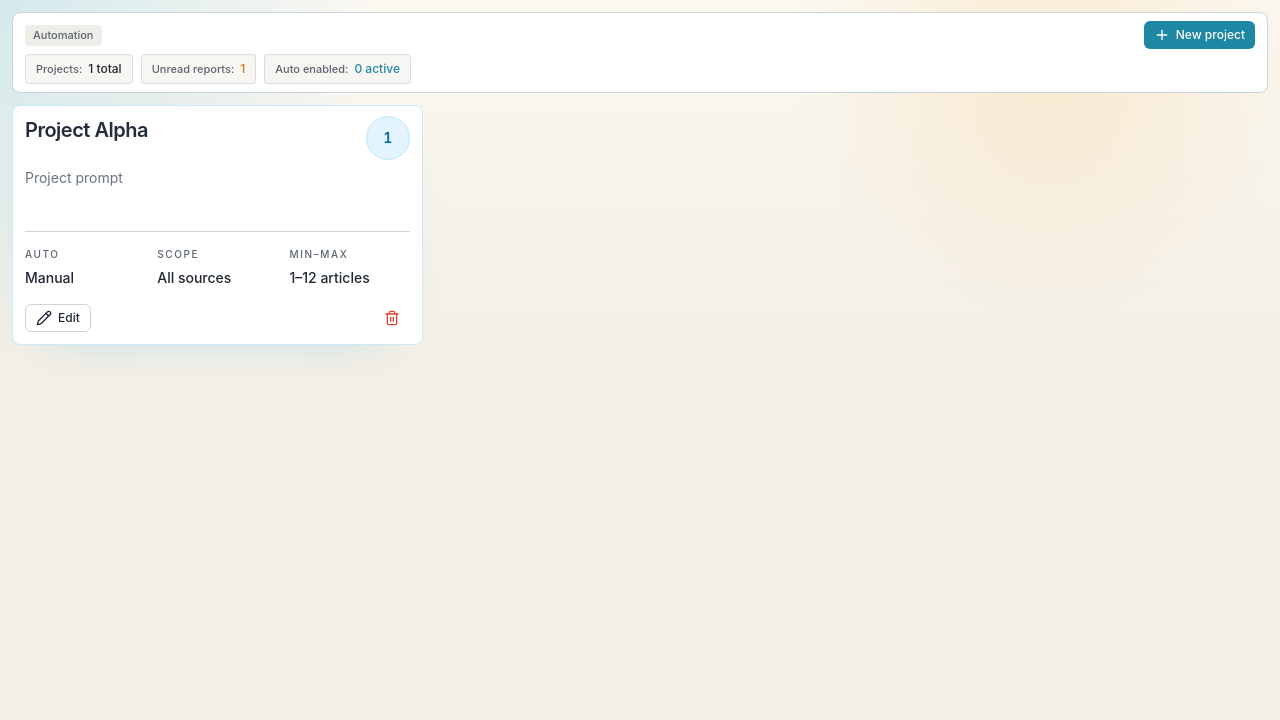
it: Automation › renders paginated manual candidates and loads the next page on demand
The width and height of the screenshot is (1280, 720).
Step 1. Click the button that starts with "Project Alpha" → (86,130), box [12,104,423,344]
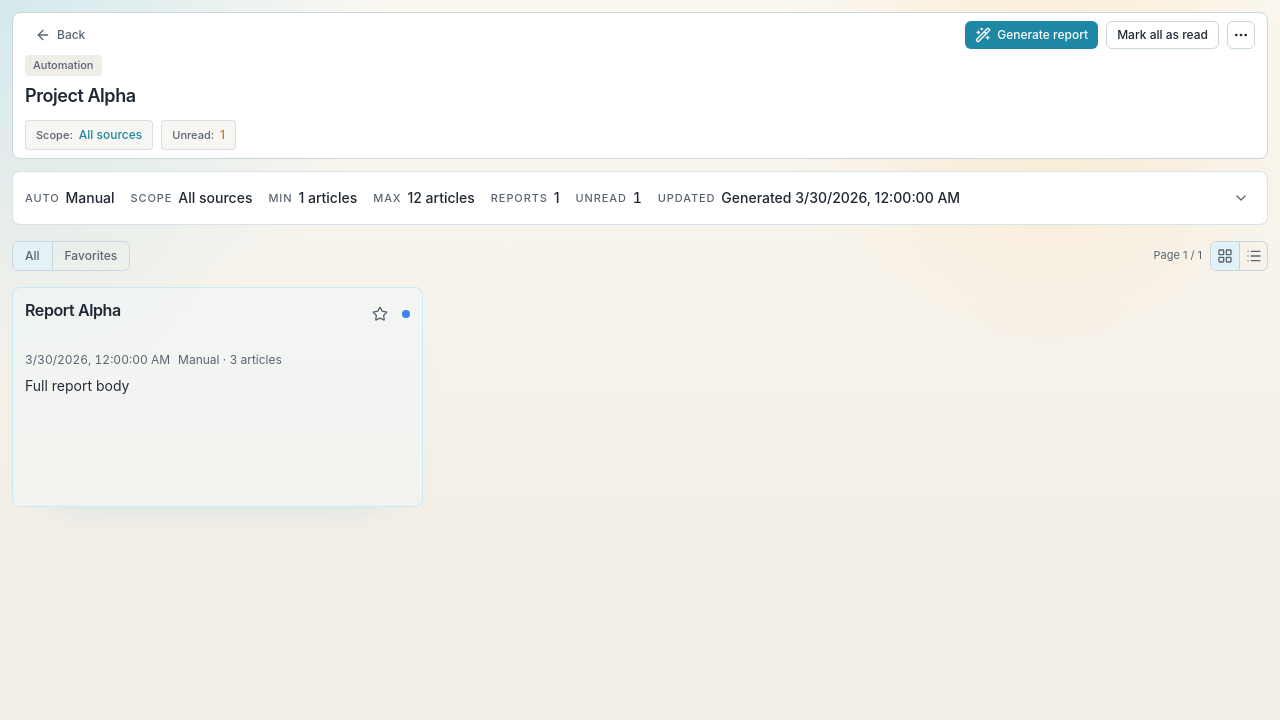
Step 2. Click the button "Generate report" → (1032,35), box [965,21,1098,49]
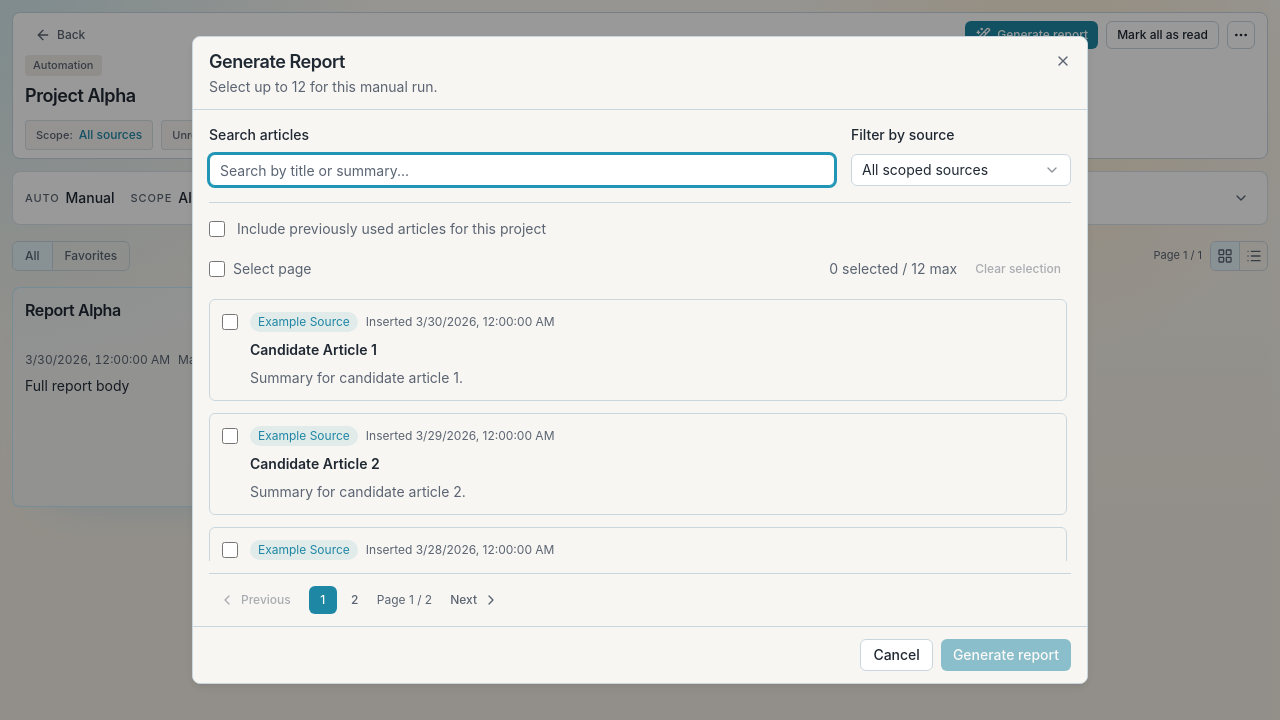
expect the text "Candidate Article 13" is not shown: met
expect the text "Page 1 / 2" is shown: met, box [377,592,432,608]
expect the text "Candidate Article 1" is shown: met, box [250,341,377,358]
Step 3. Click the button "Next" → (475,600), box [440,586,509,614]
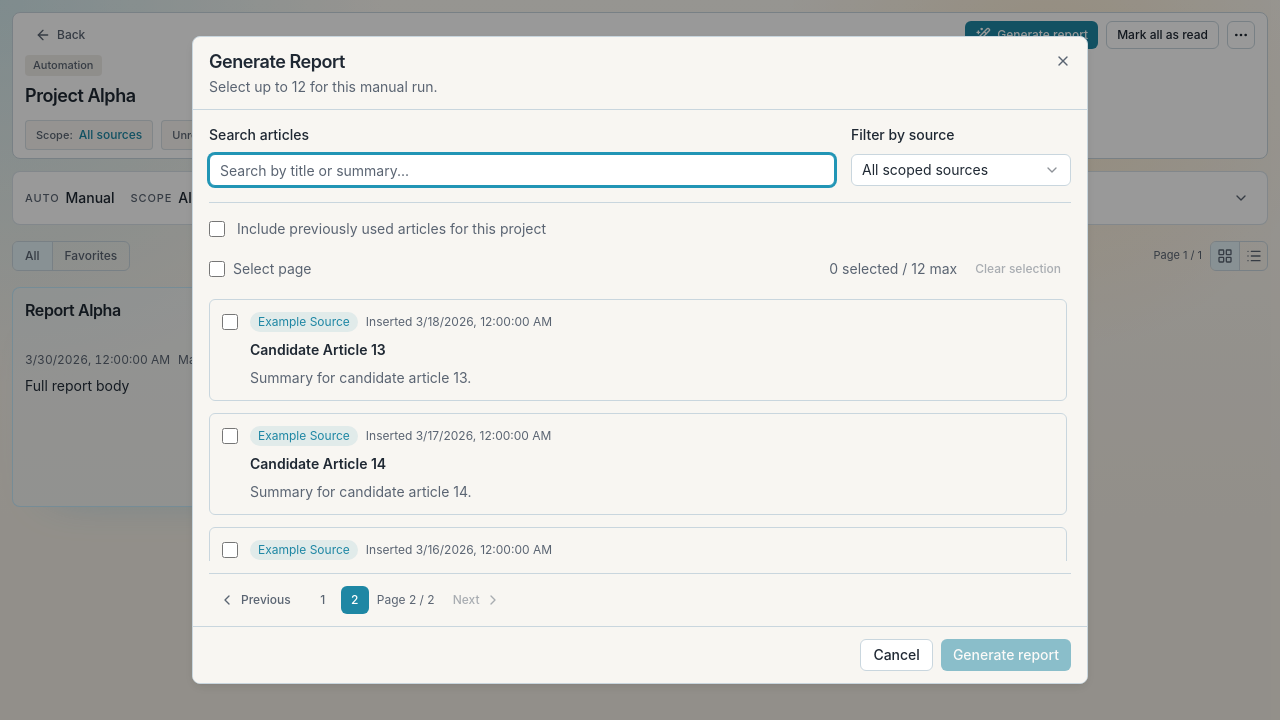
expect the text "Page 2 / 2" is shown: met, box [377,592,435,608]
expect the text "Candidate Article 13" is shown: met, box [250,341,386,358]
